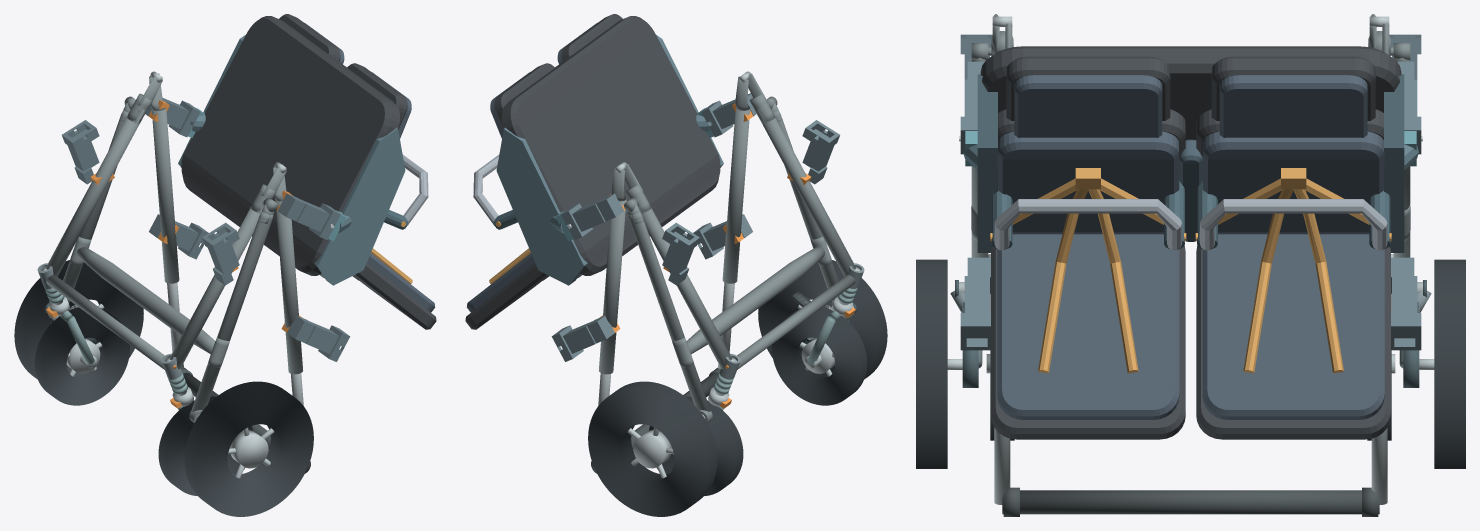
The model's file is S10_w650_state3_wheel_M.glb.
The picture shows the model from 3 angles, left to right: view 1: azimuth 30°, elevation 25°; view 2: azimuth 150°, elevation 25°; view 3: azimuth 270°, elevation 25°; orthographic projection. The views are drawn at different scales.
Visible parts, largest first — view 1: S10_Cabin, RL_tire.008, FR_tire.008, RR_tire.008, V46_rearbar.009, main_lower_1.009, main_upper_1.009, V46_rear_leg_-1.009, FL_tire.008, main_upper_-1.009, main_lower_-1.009, front_fixed_round_tube.008 (+11 smaller); view 2: S10_Cabin, RR_tire.008, FL_tire.008, RL_tire.008, V46_rearbar.009, main_lower_-1.009, main_upper_-1.009, V46_rear_leg_1.009, FR_tire.008, main_upper_1.009, main_lower_1.009, front_fixed_round_tube.008 (+11 smaller); view 3: S10_Cabin, round_handle.008, RL_tire.008, RR_tire.008, Universal_Cabin_Receiver_H_1, Universal_Cabin_Receiver_H_-1, Universal_Cabin_Receiver_M_1, Universal_Cabin_Receiver_M_-1, handle_slider_1.008, handle_slider_-1.008, S10_Cabin_Mount_M, RL_brake_backplate.008 (+1 smaller).
Part boxes in pixels (<box>): S10_Cabin: <box>178,14,436,329</box>; RL_tire.008: <box>184,381,313,516</box>; FR_tire.008: <box>34,307,129,405</box>; RR_tire.008: <box>14,260,143,379</box>; V46_rearbar.009: <box>77,247,215,354</box>; main_lower_1.009: <box>46,109,144,276</box>; main_upper_1.009: <box>151,108,179,283</box>; V46_rear_leg_-1.009: <box>191,211,273,411</box>; FL_tire.008: <box>158,396,252,495</box>; main_upper_-1.009: <box>275,199,303,374</box>; main_lower_-1.009: <box>169,206,263,369</box>; front_fixed_round_tube.008: <box>46,274,164,369</box>; S10_Cabin: <box>465,14,723,329</box>; RR_tire.008: <box>588,381,717,516</box>; FL_tire.008: <box>772,307,867,405</box>; RL_tire.008: <box>758,260,887,379</box>; V46_rearbar.009: <box>686,247,824,354</box>; main_lower_-1.009: <box>757,109,855,276</box>; main_upper_-1.009: <box>722,106,750,283</box>; V46_rear_leg_1.009: <box>628,211,710,411</box>; FR_tire.008: <box>649,396,743,495</box>; main_upper_1.009: <box>598,198,626,374</box>; main_lower_1.009: <box>638,206,732,369</box>; front_fixed_round_tube.008: <box>737,274,855,369</box>; S10_Cabin: <box>977,46,1404,439</box>; round_handle.008: <box>1002,490,1379,514</box>; RL_tire.008: <box>916,259,947,468</box>; RR_tire.008: <box>1434,259,1465,468</box>; Universal_Cabin_Receiver_H_1: <box>1391,257,1421,350</box>; Universal_Cabin_Receiver_H_-1: <box>960,257,990,350</box>; Universal_Cabin_Receiver_M_1: <box>1397,61,1421,154</box>; Universal_Cabin_Receiver_M_-1: <box>960,61,984,154</box>; handle_slider_1.008: <box>1371,428,1387,504</box>; handle_slider_-1.008: <box>994,428,1010,504</box>; S10_Cabin_Mount_M: <box>959,131,1422,170</box>; RL_brake_backplate.008: <box>962,350,978,387</box>.
Size of the model in its own units: 0.6968 by 0.8453 by 0.7871.
